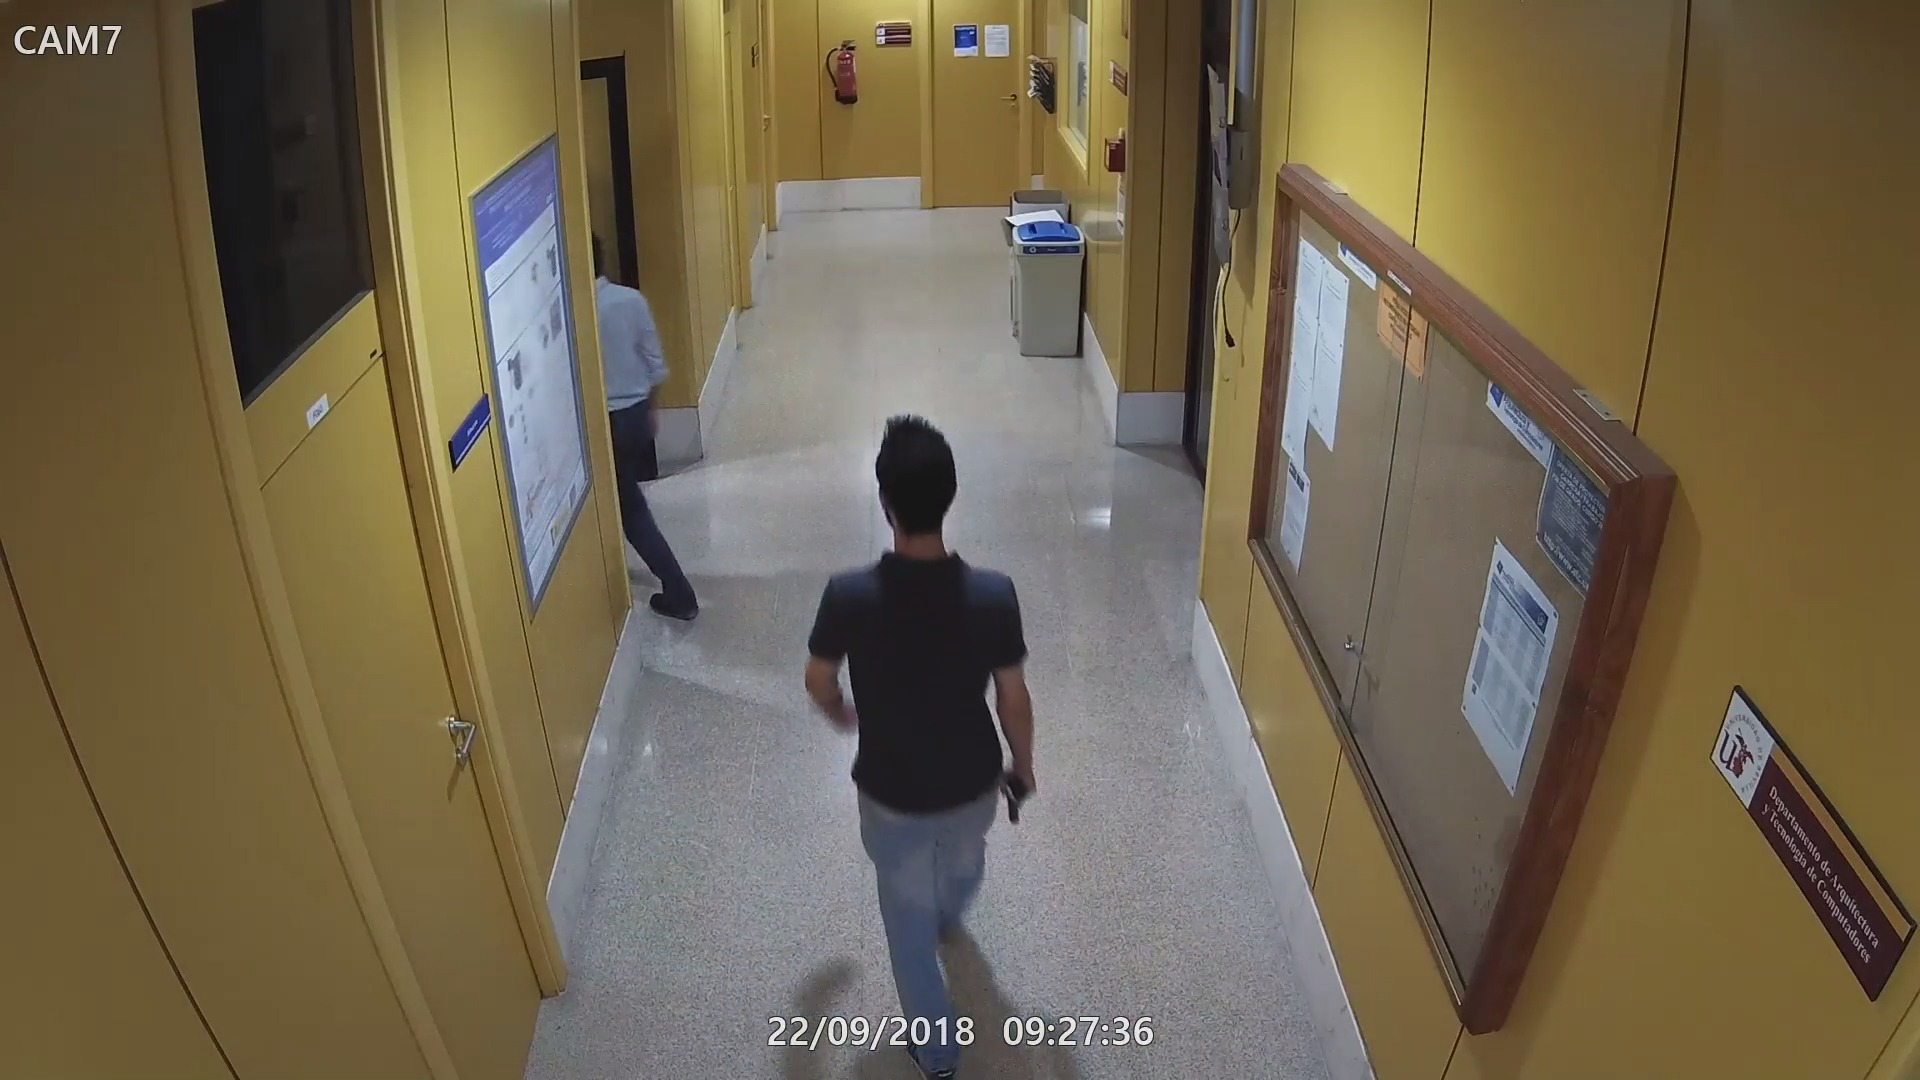Handgun: (1002, 767, 1038, 824)
